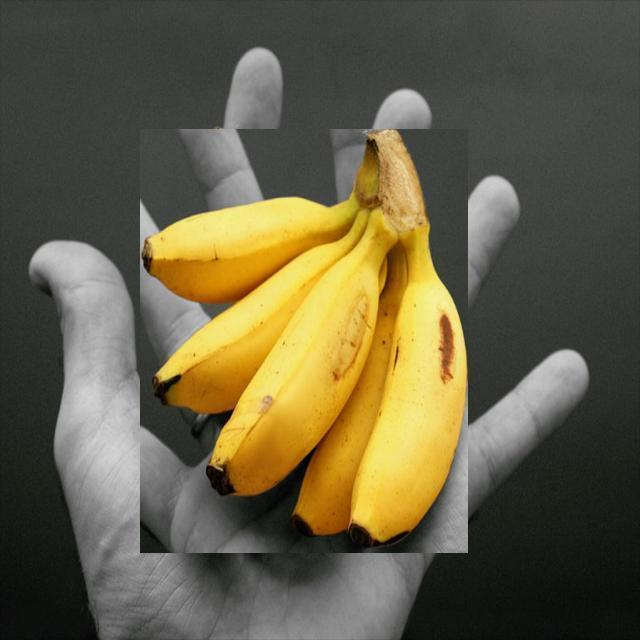Banana: (141, 127, 469, 550)
